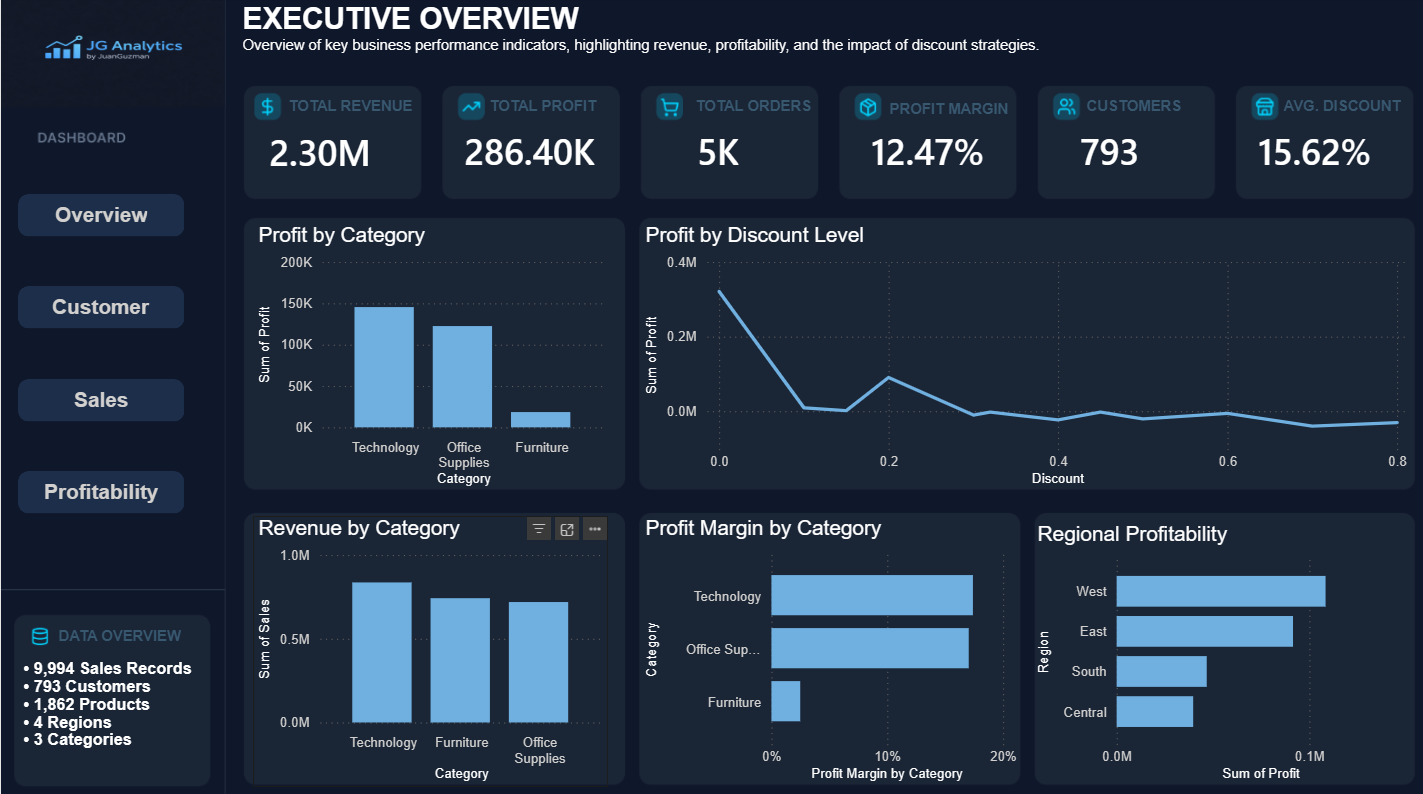

What the dashboard file says about the page in this screenshot:
{"tool":"powerbi","page":{"name":"Executive Overview","canvas":[1280,720],"ordinal":0},"visuals":[{"type":"columnChart","title":"Revenue by category","fields":{"Category":["Superstore sales dataset.Category"],"Y":["Sum(Superstore sales dataset.Sales)"]},"box":[226.1,465.6,319,243.4],"z":0},{"type":"columnChart","title":"Profit by category","fields":{"Category":["Superstore sales dataset.Category"],"Y":["Sum(Superstore sales dataset.Profit)"]},"box":[226.1,203.1,321,241.4],"z":1000},{"type":"barChart","title":"Regional profitability","fields":{"Category":["Superstore sales dataset.Region"],"Y":["Sum(Superstore sales dataset.Profit)"]},"box":[925.6,464.1,354.6,245.1],"z":2000},{"type":"cardVisual","fields":{"Data":["Superstore sales dataset.Total Sales"]},"box":[211.7,85.3,202.2,102.5],"z":3000},{"type":"cardVisual","fields":{"Data":["Superstore sales dataset.Total Profit"]},"box":[387.1,88.1,180.1,97.7],"z":4000},{"type":"textbox","box":[252.9,85.3,133.2,25.9],"z":5000},{"type":"textbox","box":[434,85.3,133.2,25.9],"z":6000},{"type":"cardVisual","fields":{"Data":["Superstore sales dataset.Total Orders"]},"box":[595.9,88.1,180.1,97.7],"z":7000},{"type":"textbox","box":[618.9,85.3,133.2,25.9],"z":8000},{"type":"cardVisual","fields":{"Data":["Superstore sales dataset.Profit Margin"]},"box":[752.1,88.1,180.1,97.7],"z":9000},{"type":"textbox","box":[792.3,88.1,133.2,25.9],"z":10000},{"type":"cardVisual","fields":{"Data":["Superstore sales dataset.Average Discount"]},"box":[1099.9,88.1,180.1,97.7],"z":11000},{"type":"textbox","box":[1146.8,85.3,133.2,25.9],"z":12000},{"type":"cardVisual","fields":{"Data":["Superstore sales dataset.Total Customers"]},"box":[939.9,88.2,180.1,97.7],"z":13000,"group":"g5"},{"type":"lineChart","title":"Profit by discount level","fields":{"Category":["Superstore sales dataset.Discount"],"Y":["Sum(Superstore sales dataset.Profit)"]},"box":[573.9,203.1,694.6,241.4],"z":13000},{"type":"textbox","box":[969.6,85.3,133.2,25.9],"z":14000,"group":"g5"},{"type":"barChart","title":"Profit margin by category","fields":{"Category":["Superstore sales dataset.Category"],"Y":["Superstore sales dataset.Profit Margin by Category"]},"box":[573.9,465.6,344,243.4],"z":14000},{"type":"textbox","box":[211.9,0,728.1,77.2],"z":15000},{"type":"shape","box":[15.3,177.2,149.5,38.3],"z":16000,"group":"g1"},{"type":"textbox","box":[46.9,561.4,133.2,25.9],"z":16000},{"type":"textbox","box":[15.3,590.2,173.4,118.8],"z":17000},{"type":"image","box":[0,0,201.2,98.7],"z":18000},{"type":"group","id":"g1","title":"Group 1","box":[15.3,177.2,149.5,38.3],"z":19000},{"type":"actionButton","title":"PROFITABILITY","box":[15.3,177.2,149.5,38.3],"z":19000,"group":"g1"},{"type":"group","id":"g2","title":"Group 2","box":[14.4,259.9,150.4,38.6],"z":20000},{"type":"shape","box":[15.4,259.9,149.5,38.3],"z":20000,"group":"g2"},{"type":"group","id":"g3","title":"Group 3","box":[15.3,342.8,149.5,38.3],"z":21000},{"type":"shape","box":[15.3,342.8,149.5,38.3],"z":21000,"group":"g3"},{"type":"group","id":"g4","title":"Group 4","box":[15.3,425.4,149.5,38.3],"z":22000},{"type":"shape","box":[15.3,425.4,149.5,38.3],"z":22000,"group":"g4"},{"type":"group","id":"g5","title":"Group 5","box":[939.9,85.3,180.1,100.6],"z":23000},{"type":"actionButton","title":"PROFITABILITY","box":[14.4,259.9,149.9,38.6],"z":23000,"group":"g2"},{"type":"actionButton","title":"PROFITABILITY","box":[15.3,342.8,149.5,38.3],"z":24000,"group":"g3"},{"type":"actionButton","title":"PROFITABILITY","box":[15.3,425.4,149.5,38.3],"z":25000,"group":"g4"}]}

Visuals, with their boxes on the page's 1280x720 design canvas (x1, y1, x2, y2). These are canvas units, not pixel positions in the 1423x794 screenshot, which may show the page scaled, cropped or inside an application window:
"Revenue by category" columnChart: (226, 466, 545, 709)
"Profit by category" columnChart: (226, 203, 547, 444)
"Regional profitability" barChart: (926, 464, 1280, 709)
cardVisual - Superstore sales dataset.Total Sales: (212, 85, 414, 188)
cardVisual - Superstore sales dataset.Total Profit: (387, 88, 567, 186)
textbox: (253, 85, 386, 111)
textbox: (434, 85, 567, 111)
cardVisual - Superstore sales dataset.Total Orders: (596, 88, 776, 186)
textbox: (619, 85, 752, 111)
cardVisual - Superstore sales dataset.Profit Margin: (752, 88, 932, 186)
textbox: (792, 88, 926, 114)
cardVisual - Superstore sales dataset.Average Discount: (1100, 88, 1280, 186)
textbox: (1147, 85, 1280, 111)
cardVisual - Superstore sales dataset.Total Customers: (940, 88, 1120, 186)
"Profit by discount level" lineChart: (574, 203, 1268, 444)
textbox: (970, 85, 1103, 111)
"Profit margin by category" barChart: (574, 466, 918, 709)
textbox: (212, 0, 940, 77)
shape: (15, 177, 165, 216)
textbox: (47, 561, 180, 587)
textbox: (15, 590, 189, 709)
image: (0, 0, 201, 99)
"Group 1" group: (15, 177, 165, 216)
"PROFITABILITY" actionButton: (15, 177, 165, 216)
"Group 2" group: (14, 260, 165, 298)
shape: (15, 260, 165, 298)
"Group 3" group: (15, 343, 165, 381)
shape: (15, 343, 165, 381)
"Group 4" group: (15, 425, 165, 464)
shape: (15, 425, 165, 464)
"Group 5" group: (940, 85, 1120, 186)
"PROFITABILITY" actionButton: (14, 260, 164, 298)
"PROFITABILITY" actionButton: (15, 343, 165, 381)
"PROFITABILITY" actionButton: (15, 425, 165, 464)
